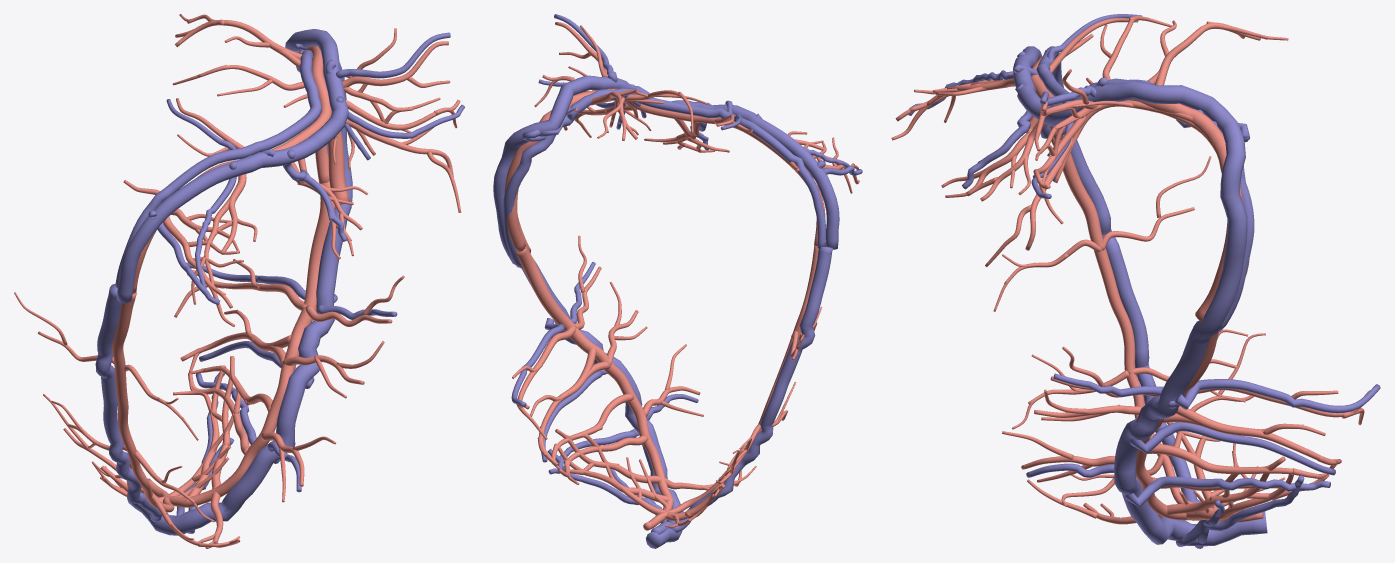
The model's file is vessels_58.glb.
3 views of the same model, side by side, from view 1: azimuth 30°, elevation 25°; view 2: azimuth 150°, elevation 25°; view 3: azimuth 270°, elevation 25° (orthographic). The views are drawn at different scales.
Visible parts, largest first — view 1: Renderer Node; view 2: Renderer Node; view 3: Renderer Node.
Part boxes in pixels (box(x1,y1,x2,y2)): Renderer Node: box(14, 14, 464, 548); Renderer Node: box(493, 14, 862, 548); Renderer Node: box(891, 14, 1380, 548).
Size of the model in its own units: 94.83 by 122 by 95.52.
